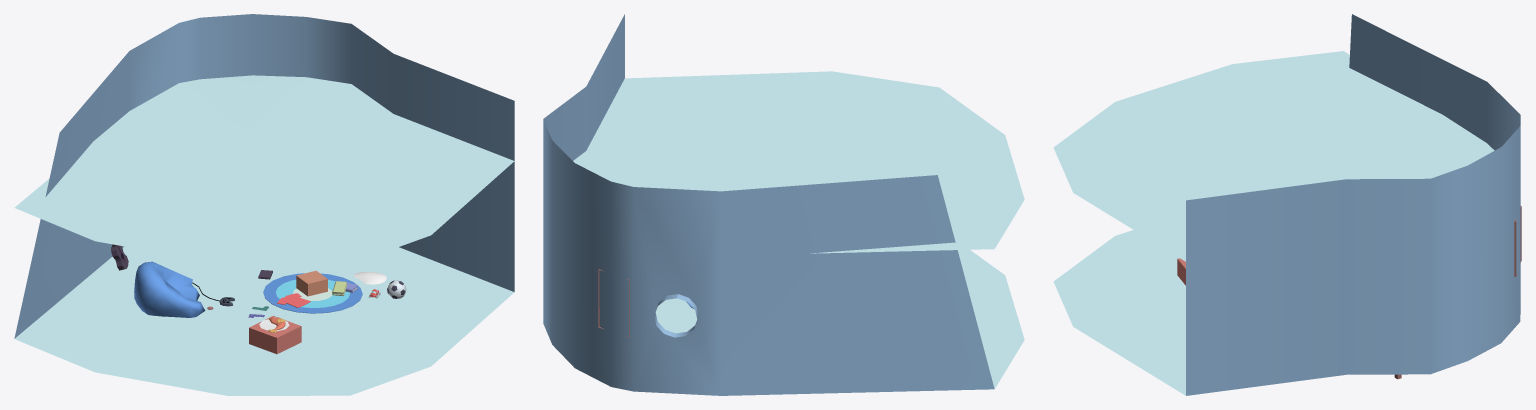
File: DressUp_Boy_01.fbx
3 views of the same model, side by side, from view 1: azimuth 30°, elevation 25°; view 2: azimuth 150°, elevation 25°; view 3: azimuth 270°, elevation 25° (orthographic). The views are drawn at different scales.
Parts seen in each view (by area): view 1: Walls1, Ceiling, Items; view 2: Walls1, Ceiling; view 3: Walls1, Ceiling, Items.
Part boxes in pixels (x1,y1,x2,y2): Walls1: [14, 14, 514, 395]; Ceiling: [14, 75, 514, 264]; Items: [111, 244, 406, 354]; Walls1: [543, 14, 1024, 395]; Ceiling: [573, 71, 1024, 253]; Walls1: [1053, 14, 1520, 395]; Ceiling: [1053, 51, 1494, 261]; Items: [1177, 206, 1521, 379].
Size of the model in its own units: 1179 by 524 by 1105.
